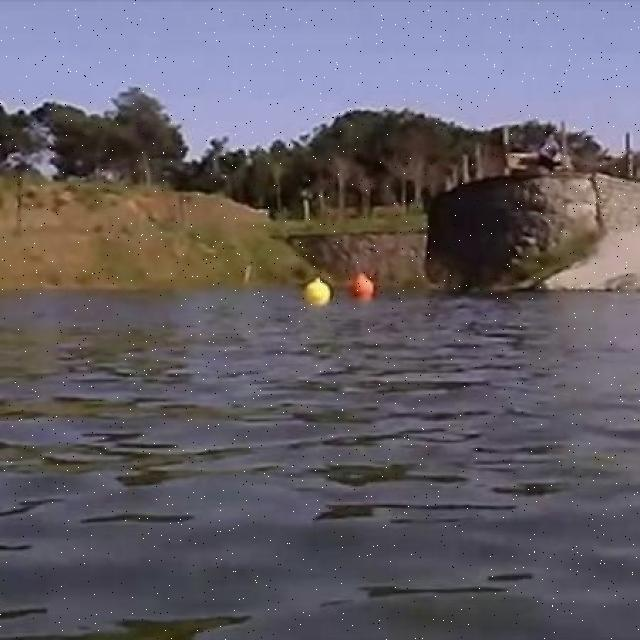buoy: (305, 278, 331, 305), (348, 274, 374, 298)
